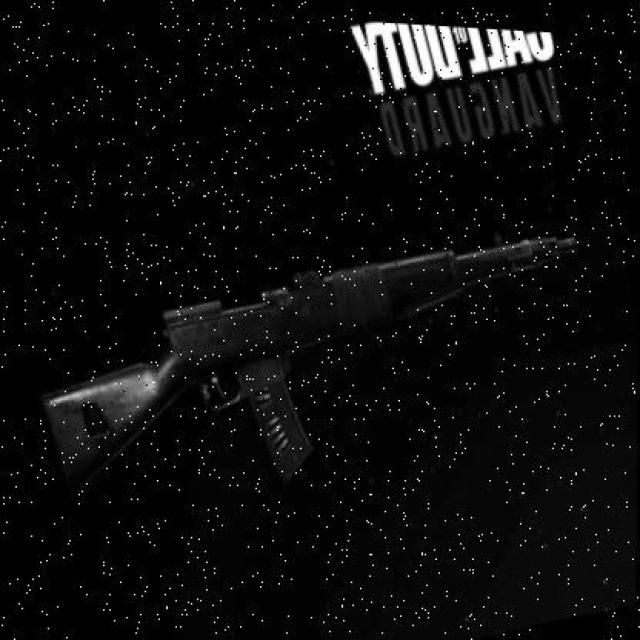weapon: (40, 232, 582, 490)
